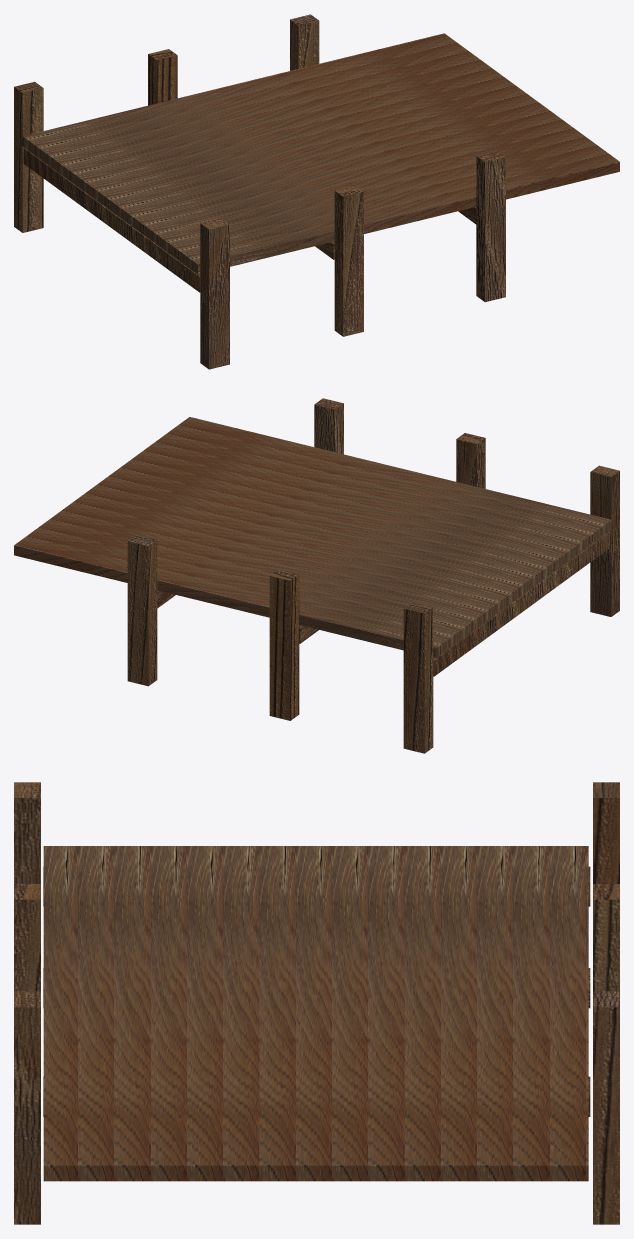
3 views of the same model, one above another, from view 1: azimuth 30°, elevation 25°; view 2: azimuth 150°, elevation 25°; view 3: azimuth 270°, elevation 25° (orthographic). The views are drawn at different scales.
Parts seen in each view (by area): view 1: 立方体.002; view 2: 立方体.002; view 3: 立方体.002.
Part boxes in pixels (x1,y1,x2,y2): 立方体.002: [14, 14, 619, 369]; 立方体.002: [14, 398, 619, 753]; 立方体.002: [14, 782, 619, 1224].
Bounding box in the file's own units: 796 × 252 × 638.
